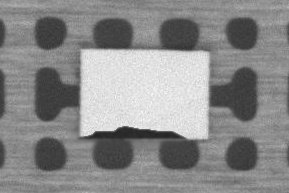DIE_BROKEN: (82, 120, 188, 139)
